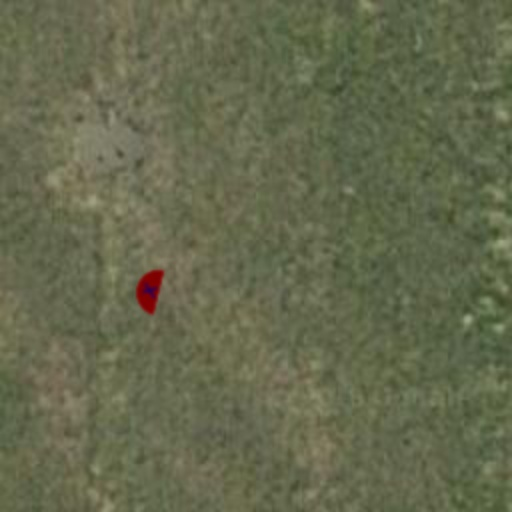semicircle: (118, 260, 178, 320)
